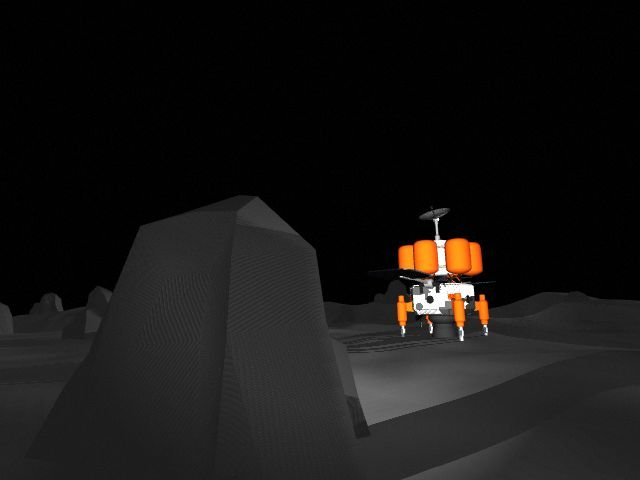homebase: (383, 205, 506, 344)
